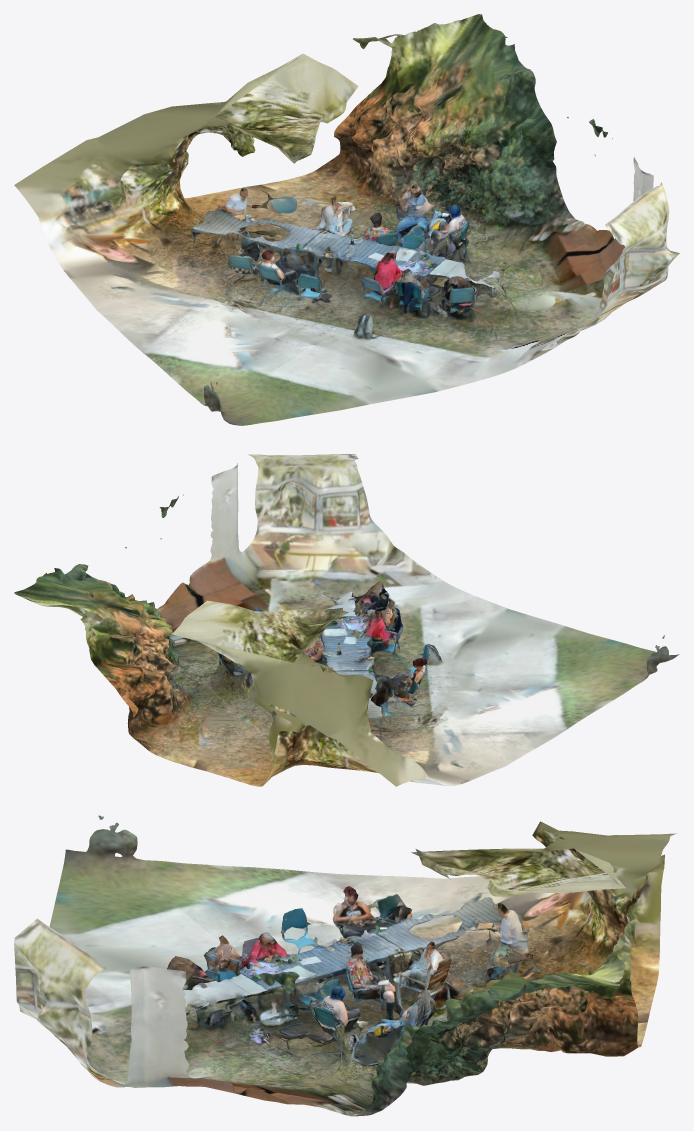
3 views of the same model, one above another, from view 1: azimuth 30°, elevation 25°; view 2: azimuth 150°, elevation 25°; view 3: azimuth 270°, elevation 25° (orthographic). The views are drawn at different scales.
Parts seen in each view (by area): view 1: photogrammetry; view 2: photogrammetry; view 3: photogrammetry.
Part boxes in pixels (x1=…): photogrammetry: x1=14, y1=14, x2=679, y2=425; photogrammetry: x1=14, y1=454, x2=679, y2=786; photogrammetry: x1=14, y1=815, x2=676, y2=1116.
Size of the model in its own units: 9.37 by 2.43 by 9.44.
1 material, 1 textured.
